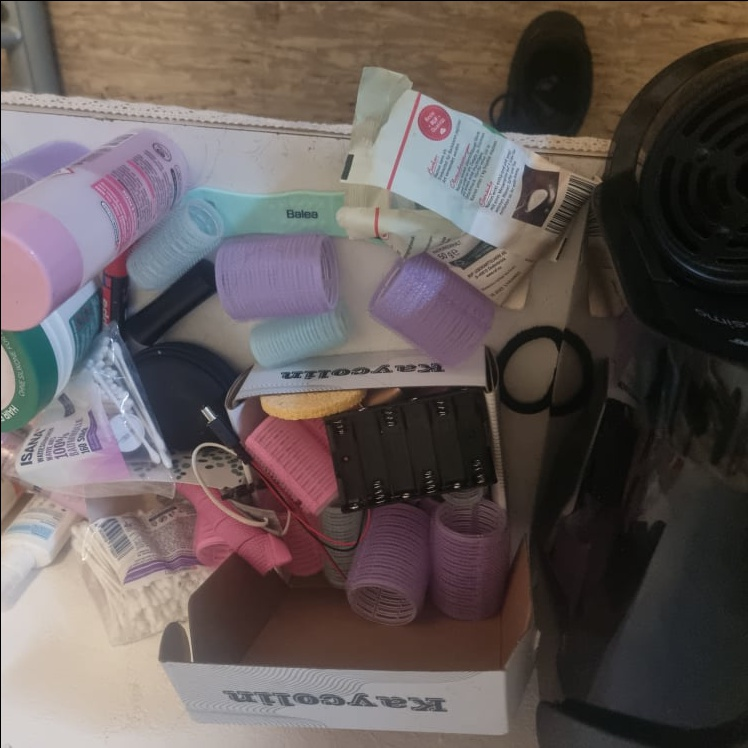BATTERY BOX: (321, 387, 494, 513)
